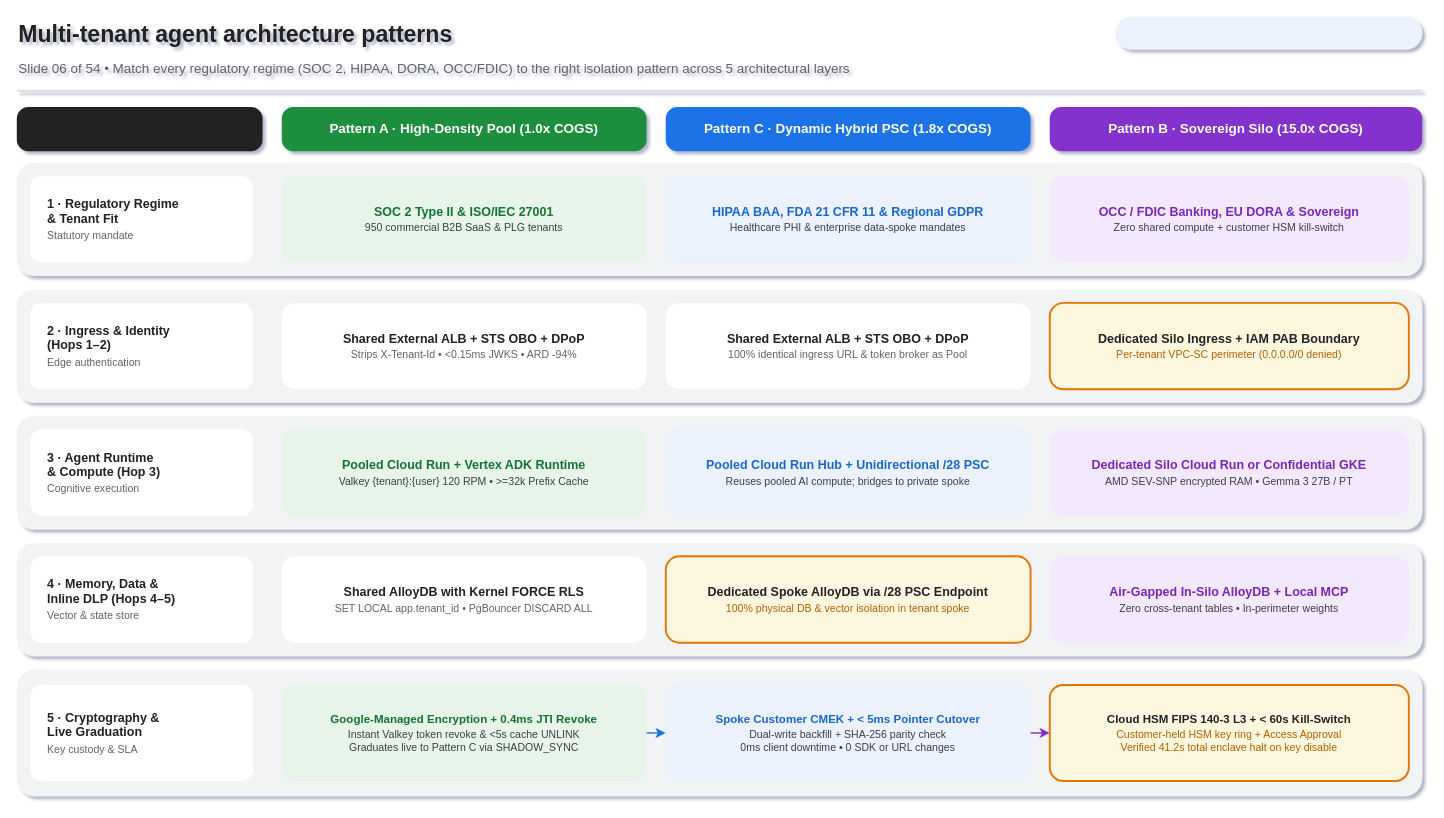
Image size: 1444x818. Some labels were removed from this diagram. Here are the shapes that lost their labels. From the top down, the centre of each, then its label:
At pixel 1268 32: "SOC 2 • HIPAA • DORA • OCC/FDIC".
At pixel 139 129: "ARCHITECTURAL LAYER".
